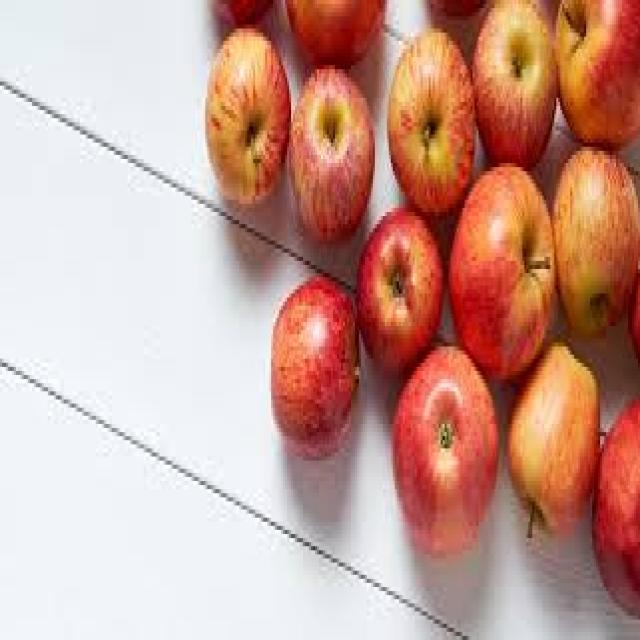Apple: (446, 159, 556, 379), (391, 342, 498, 554), (504, 338, 600, 534), (550, 142, 638, 338), (384, 25, 474, 216), (269, 273, 359, 457), (285, 61, 375, 241), (204, 24, 288, 208), (355, 204, 443, 375), (471, 0, 556, 167), (554, 0, 638, 147), (590, 396, 638, 620), (285, 0, 385, 65), (215, 0, 276, 18)
